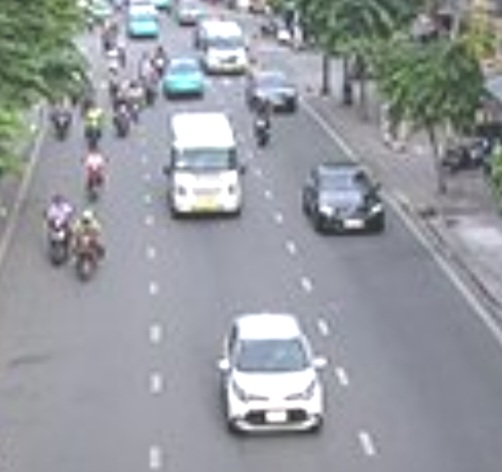car: (219, 313, 325, 432), (166, 111, 243, 214), (304, 160, 386, 237), (247, 72, 299, 114), (163, 57, 205, 99)
